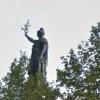Statue: (18, 15, 56, 80)
